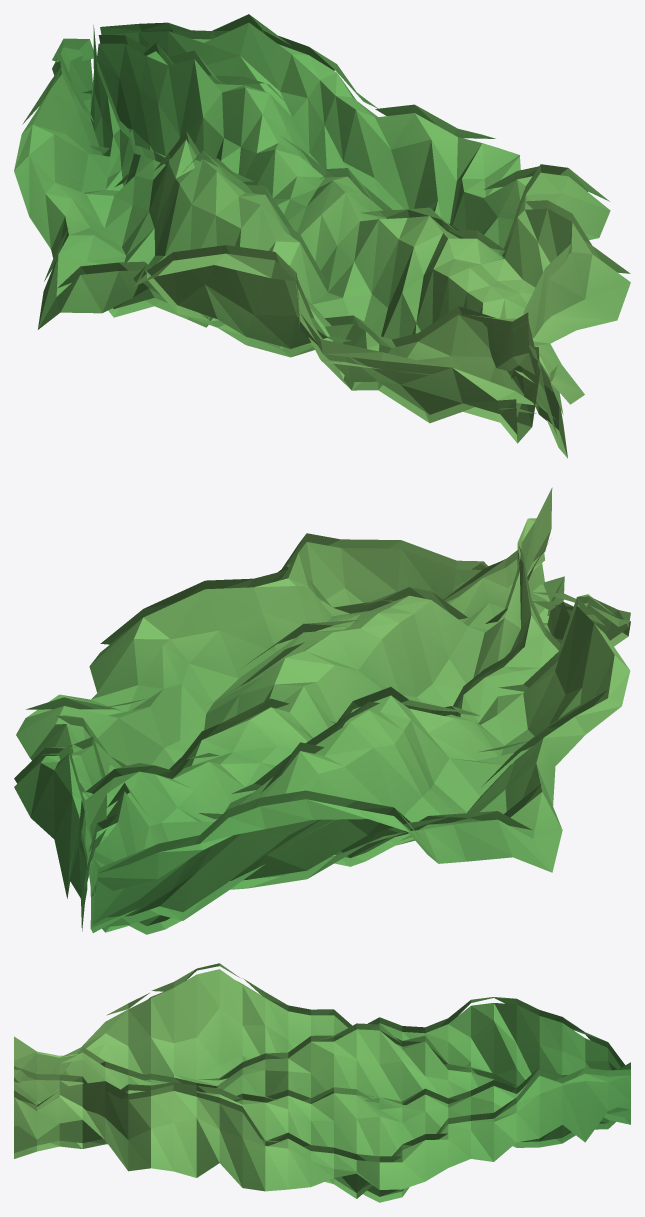
3 views of the same model, one above another, from view 1: azimuth 30°, elevation 25°; view 2: azimuth 150°, elevation 25°; view 3: azimuth 270°, elevation 25° (orthographic). The views are drawn at different scales.
Parts seen in each view (by area): view 1: world; view 2: world; view 3: world.
Boxes of the visible parts, bbox=[...] form: world: bbox=[14, 14, 630, 458]; world: bbox=[14, 487, 630, 934]; world: bbox=[14, 963, 630, 1202].
Size of the model in its own units: 0.6639 by 0.2244 by 1.
